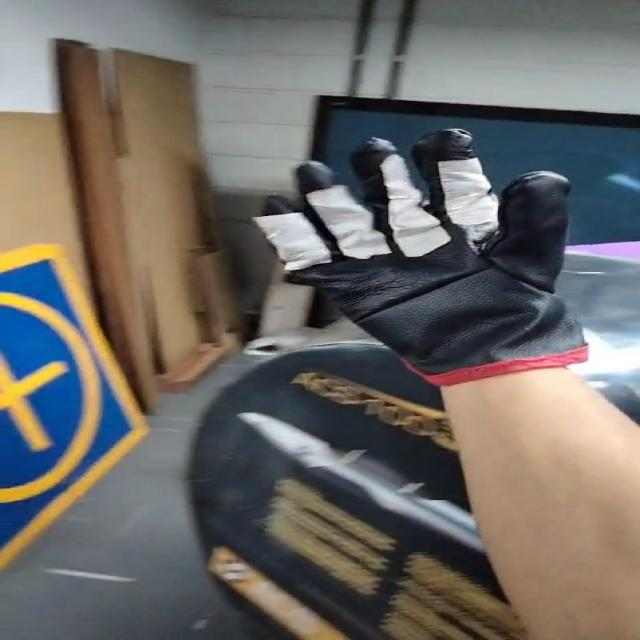Gloves: (251, 130, 589, 380)
